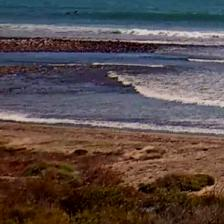surfer: (73, 10, 78, 14)
